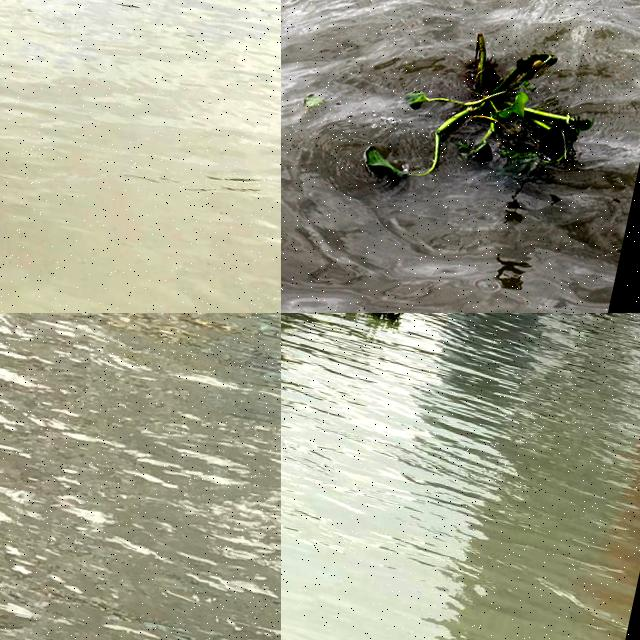water-hyacinth: (356, 3, 609, 227)
